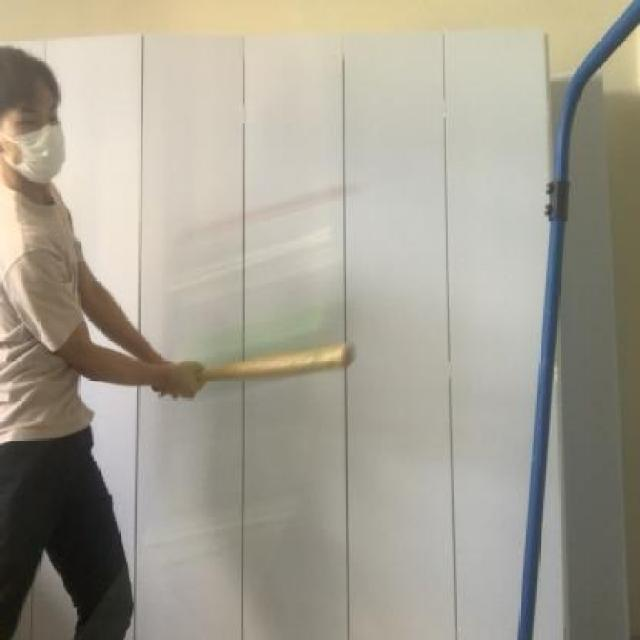baseball: (164, 284, 364, 404)
